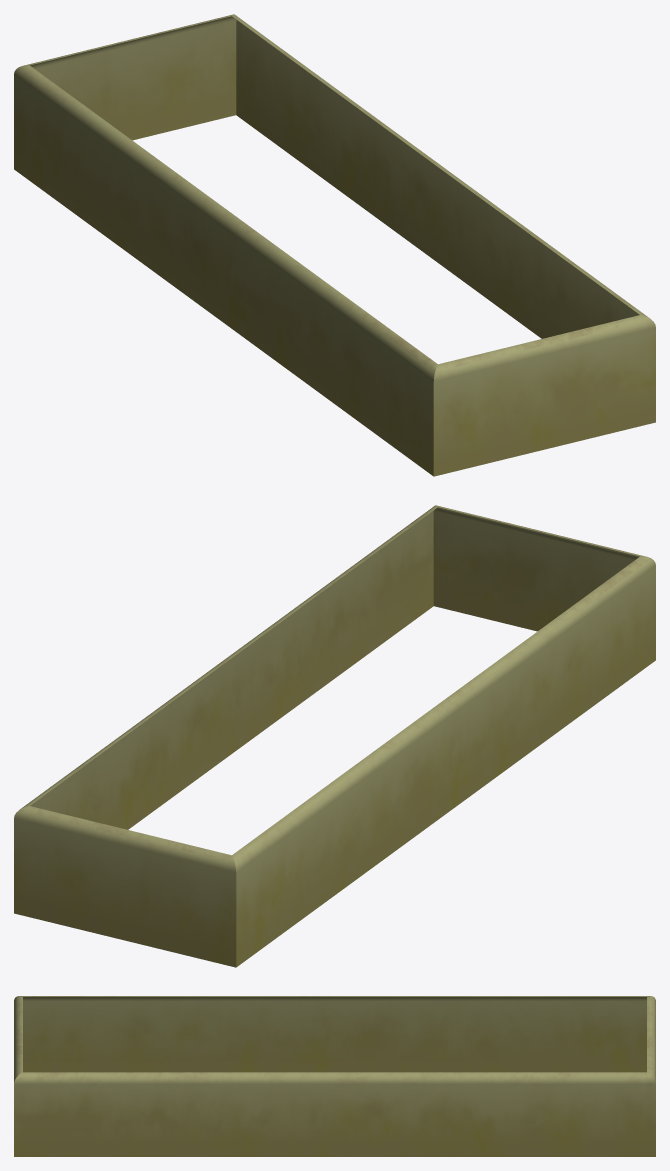
The model's file is ColliderCutBase.fbx.
3 views of the same model, one above another, from view 1: azimuth 30°, elevation 25°; view 2: azimuth 150°, elevation 25°; view 3: azimuth 270°, elevation 25° (orthographic). The views are drawn at different scales.
Parts seen in each view (by area): view 1: ColliderCutBase; view 2: ColliderCutBase; view 3: ColliderCutBase.
Boxes of the visible parts, x1=… form: ColliderCutBase: x1=14, y1=14, x2=655, y2=476; ColliderCutBase: x1=14, y1=505, x2=655, y2=967; ColliderCutBase: x1=14, y1=996, x2=655, y2=1156.
Bounding box in the file's own units: 55 × 25 × 180.
